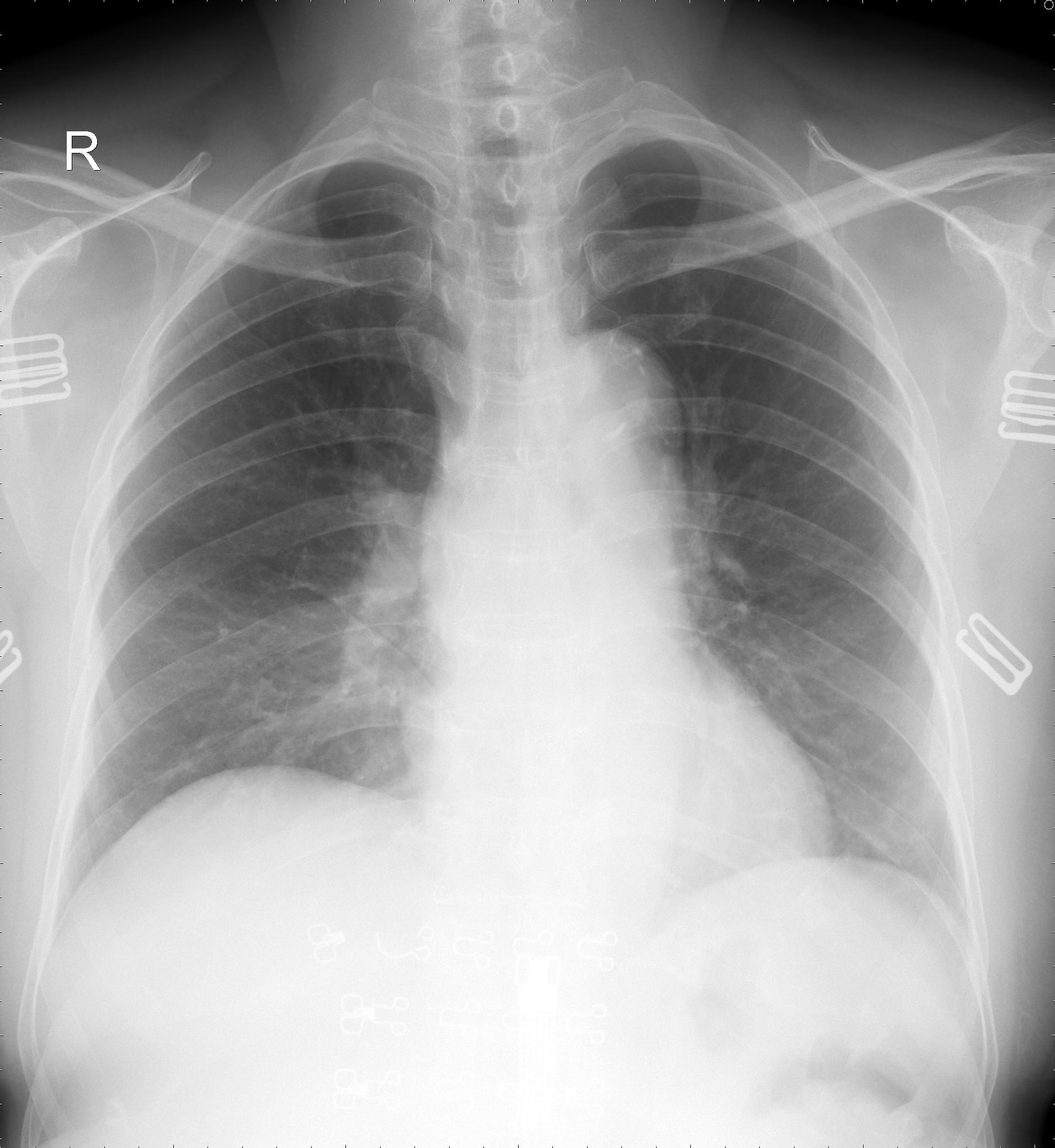Aortic enlargement: (536, 325, 691, 509)
